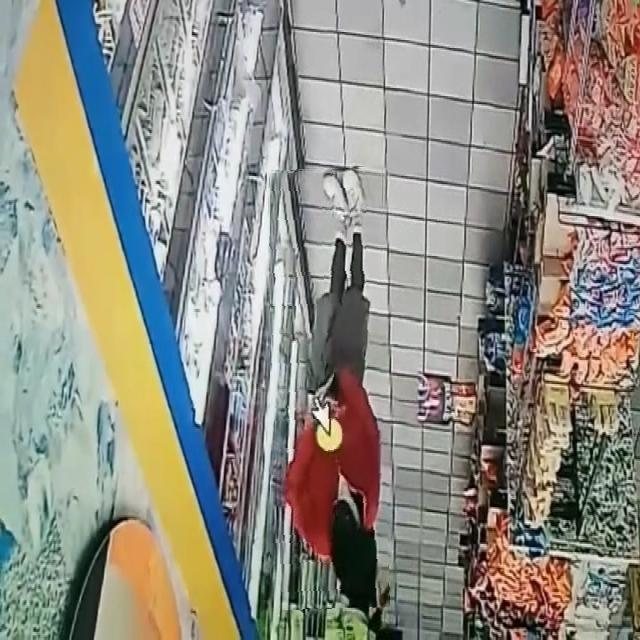Shoplifting: (270, 168, 386, 608)
